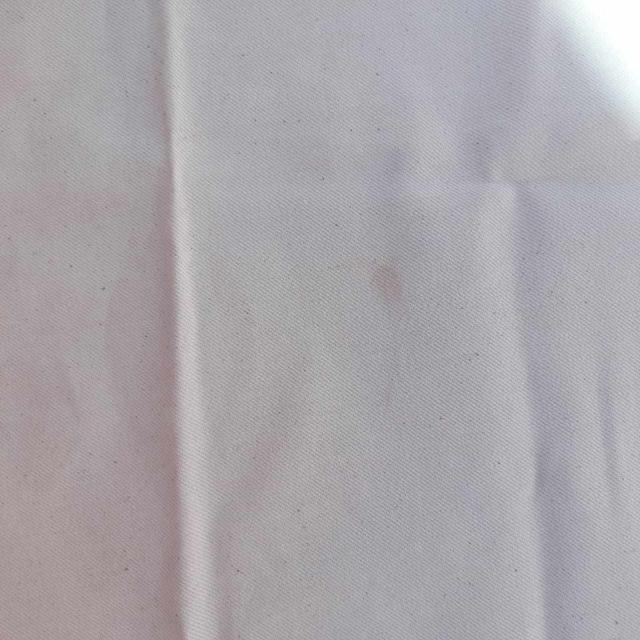taaaches: (356, 243, 414, 312)
